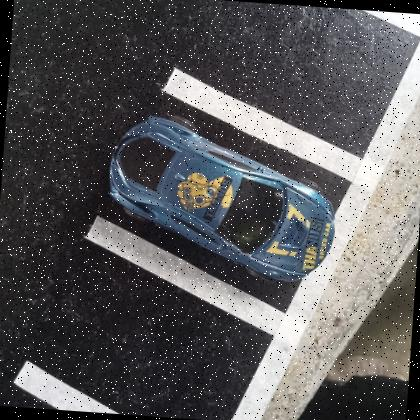Car: (107, 117, 335, 286)
